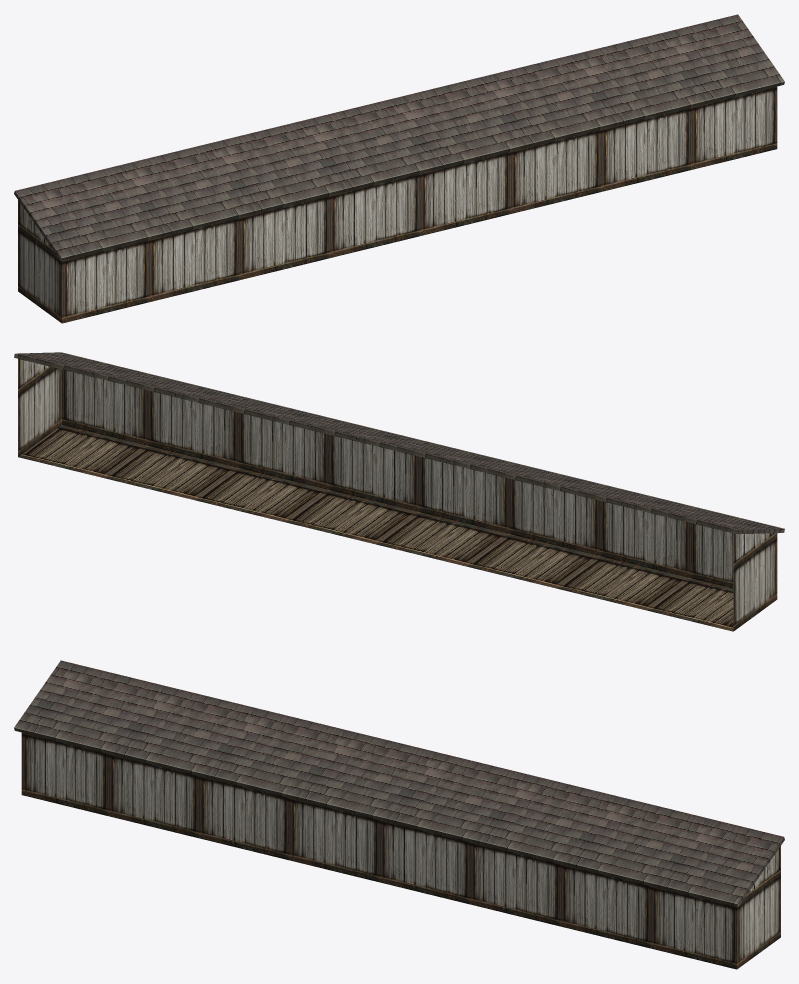
File: CastleHouse02.FBX
3 views of the same model, one above another, from view 1: azimuth 30°, elevation 25°; view 2: azimuth 150°, elevation 25°; view 3: azimuth 330°, elevation 25° (orthographic).
Parts seen in each view (by area): view 1: CastleHouse02; view 2: CastleHouse02; view 3: CastleHouse02.
Part boxes in pixels (left/top/right/bottom): CastleHouse02: left=14, top=14, right=784, bottom=323; CastleHouse02: left=14, top=352, right=784, bottom=631; CastleHouse02: left=14, top=660, right=784, bottom=969.
Size of the model in its own units: 2428 by 327 by 277.
